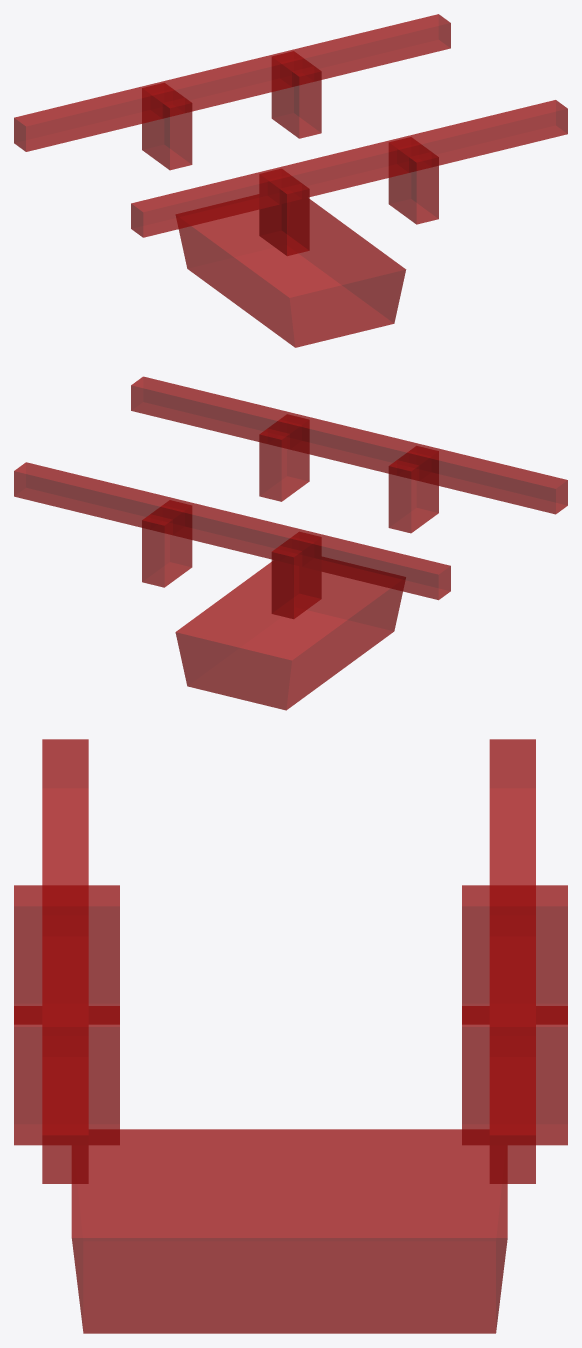
Rendered from SM_Veh_ContainerCrane_VerticalBar_Collision.fbx.
3 renders of one model, top to bottom at view 1: azimuth 30°, elevation 25°; view 2: azimuth 150°, elevation 25°; view 3: azimuth 270°, elevation 25°, orthographic. The views are drawn at different scales.
Visible parts, largest first — view 1: SM_Veh_ContainerCrane_VerticalBar_Collision; view 2: SM_Veh_ContainerCrane_VerticalBar_Collision; view 3: SM_Veh_ContainerCrane_VerticalBar_Collision.
Boxes of the visible parts, <box> form: SM_Veh_ContainerCrane_VerticalBar_Collision: <box>14,14,567,347</box>; SM_Veh_ContainerCrane_VerticalBar_Collision: <box>14,376,567,710</box>; SM_Veh_ContainerCrane_VerticalBar_Collision: <box>14,739,567,1333</box>.
Bounding box in the file's own units: 1729 × 713 × 1023.
